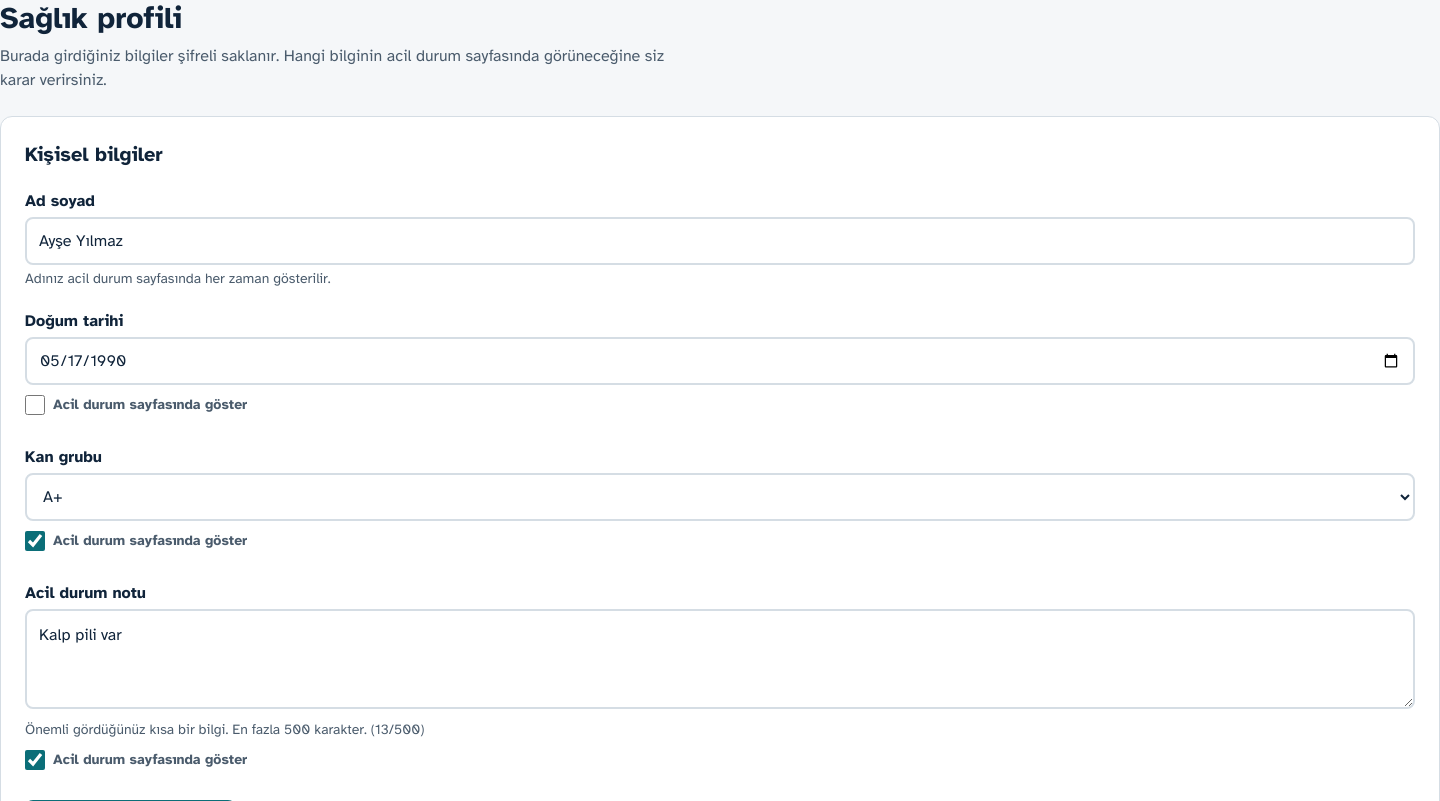
Test case: Sağlık profili sayfası › geçersiz kişisel bilgiyle istek göndermez
Expected: the heading "Sağlık profili" is shown, [0,0,182,37]
Clear the field labelled "Ad soyad": (720,241) [25,217,1415,265]
(page scrolled)
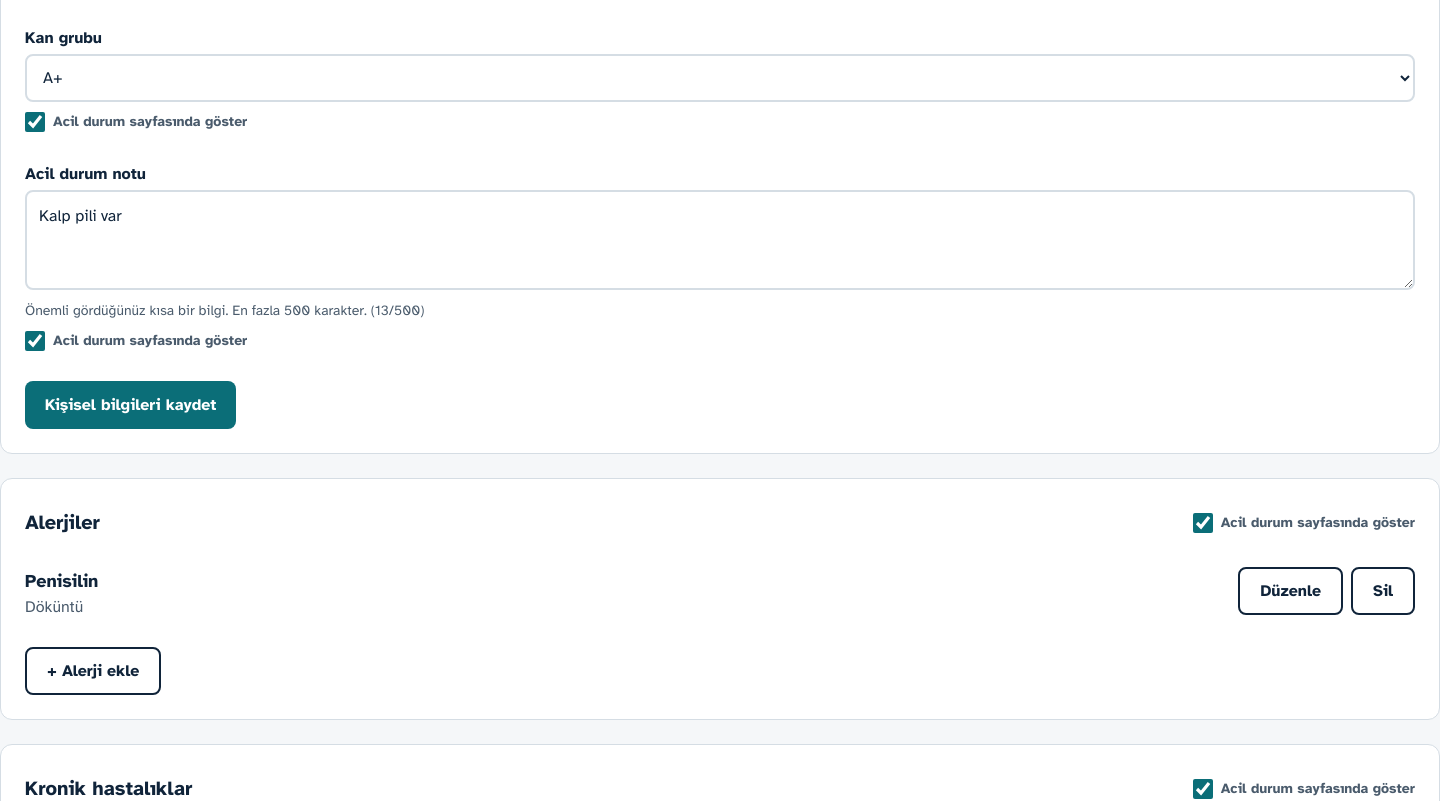
Click the button "Kişisel bilgileri kaydet": (131,405) [25,381,236,429]
(page scrolled)
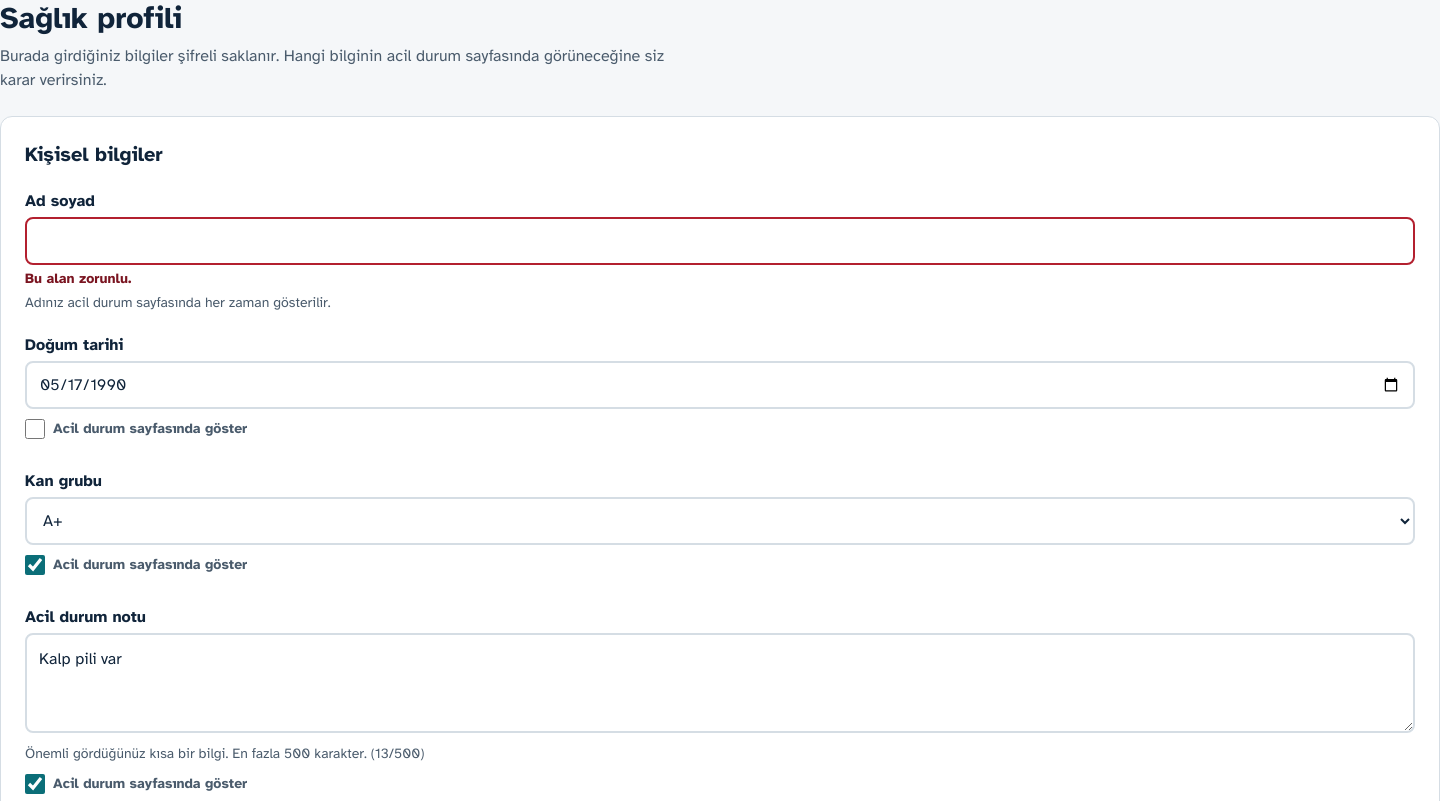
Expected: the text "Bu alan zorunlu." is shown, [25,270,131,287]
